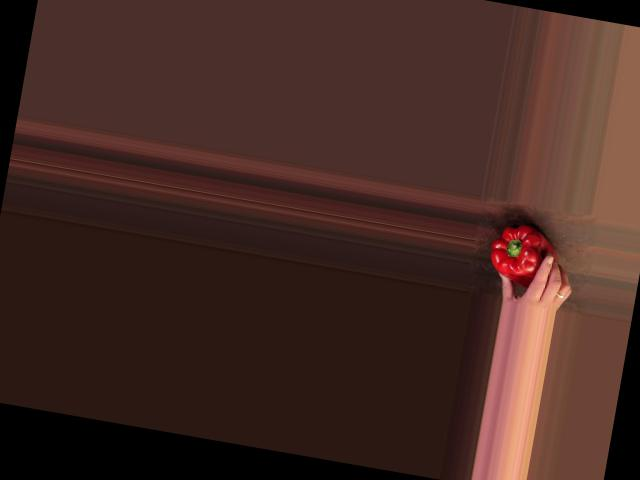bell_pepper: (484, 218, 556, 287)
